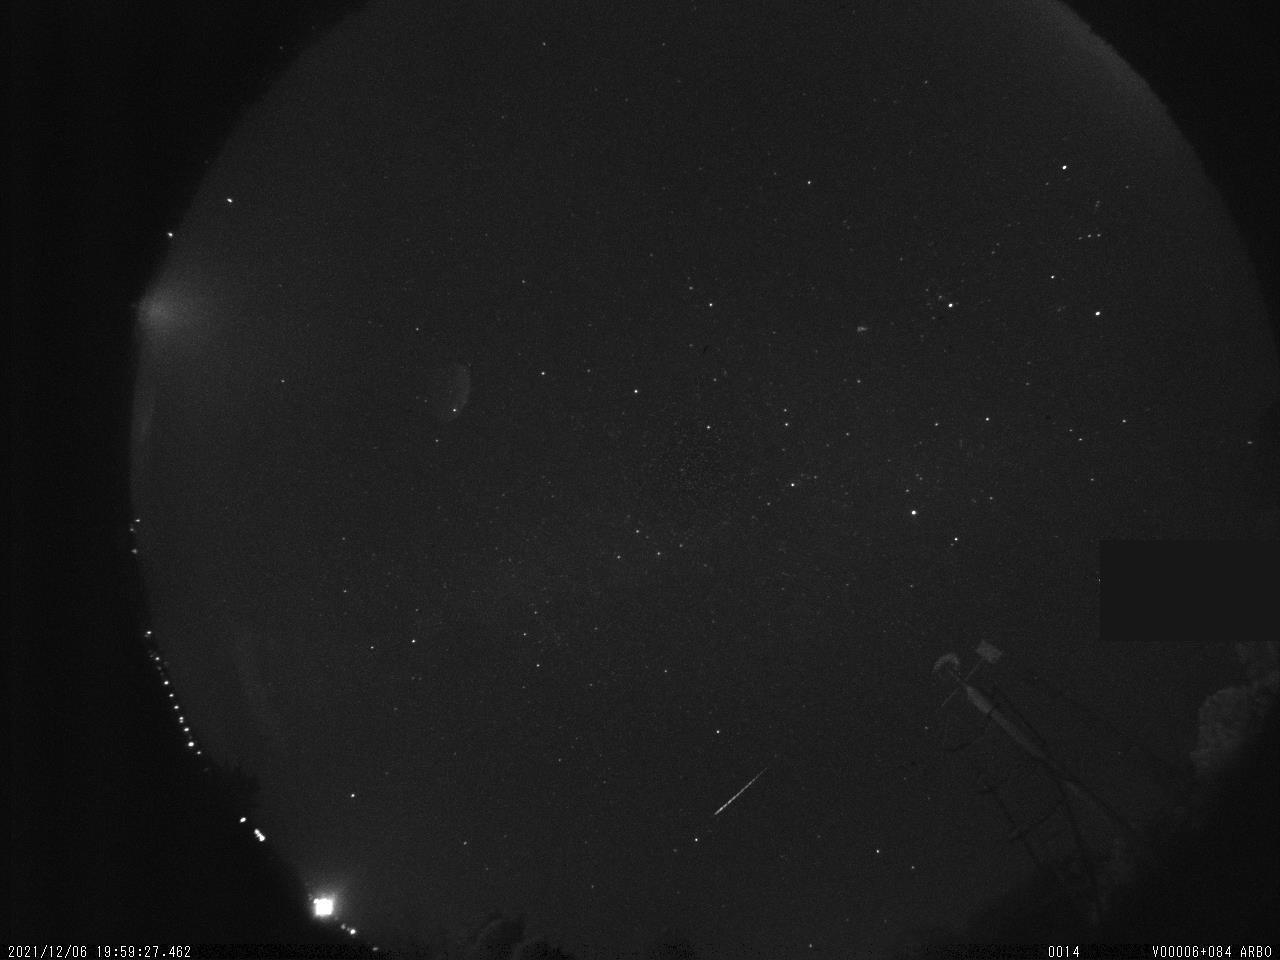Meteor: (706, 759, 779, 819)
